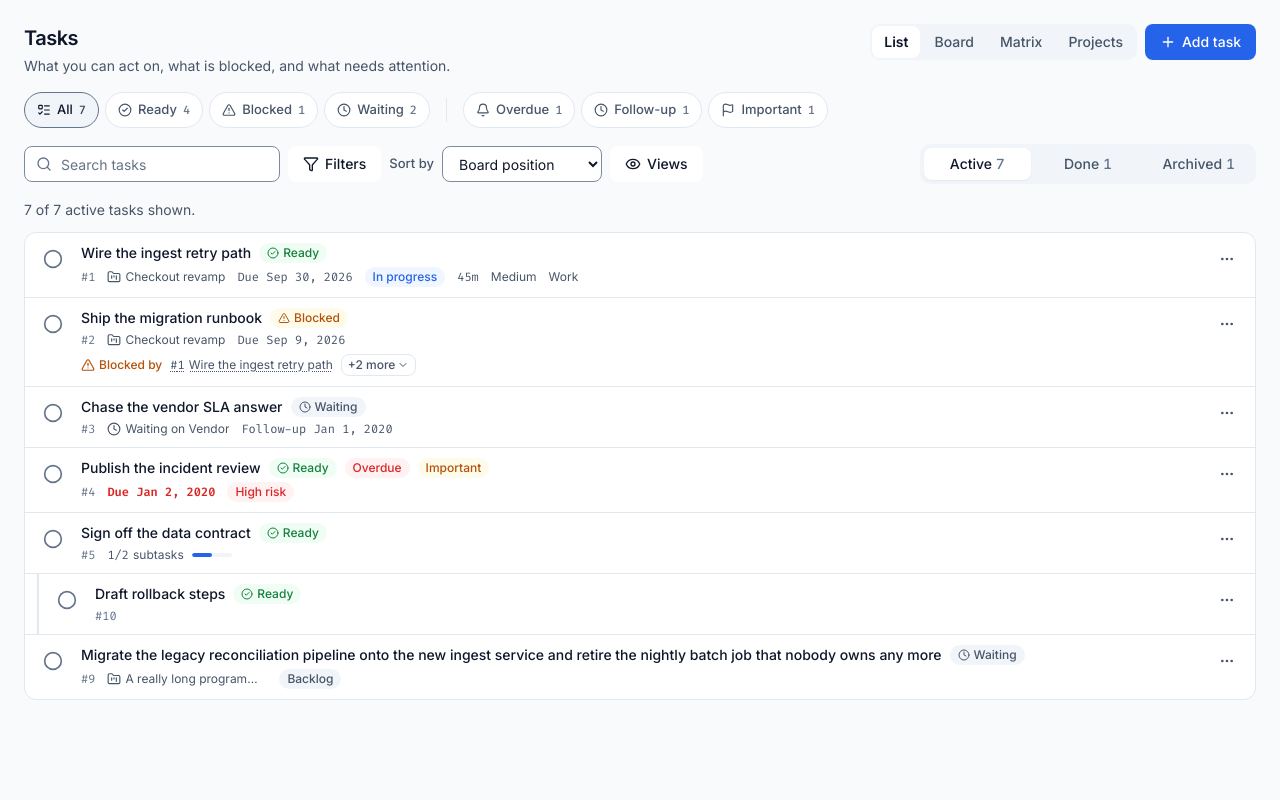
Test: TasksPage - signals, search, filters and saved views › toggles the overdue signal, keeps it in the URL contract and shows a removable chip
Click the button with aria-label "Overdue, 1 active task" at {"x": 519, "y": 110}, box [463,92,575,128]
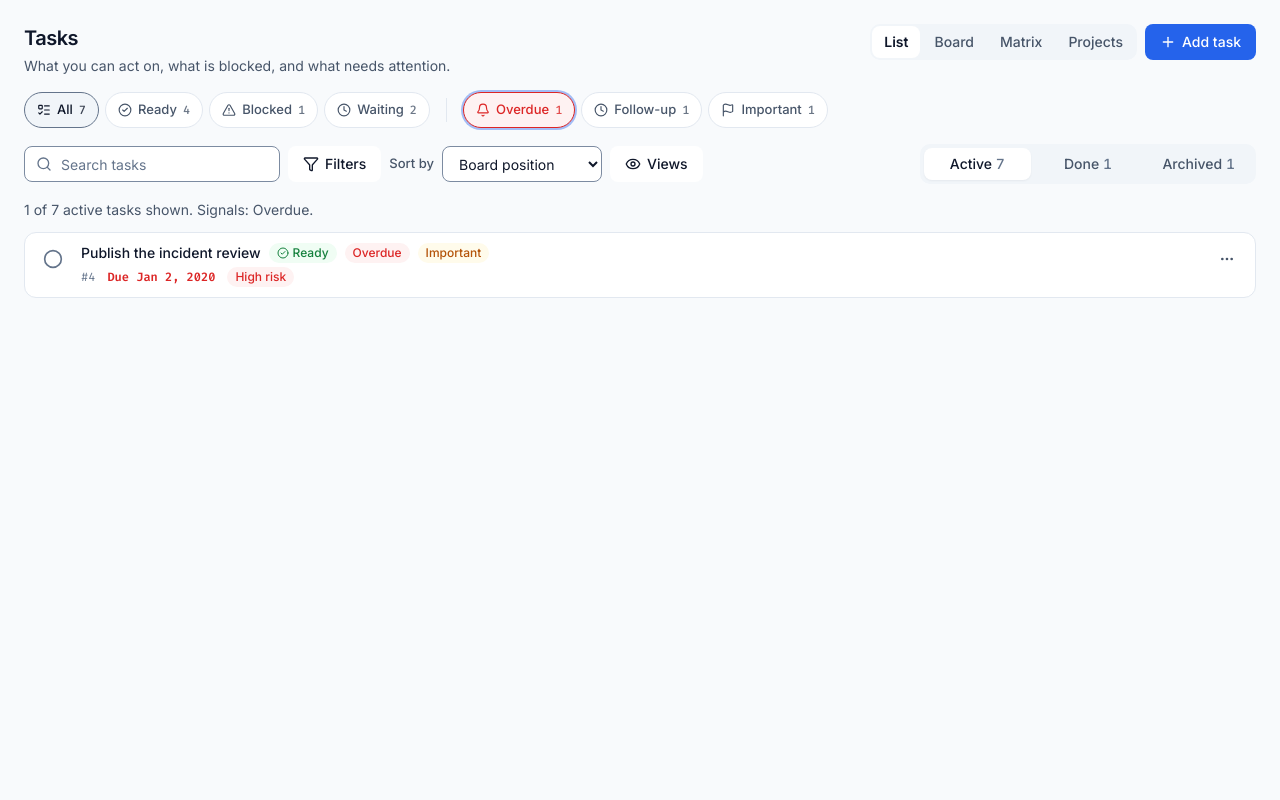
Check: the link "Publish the incident review" is shown, box [81,243,261,263]
Check: the link "Wire the ingest retry path" is gone
Click the button with aria-label "Overdue, 1 active task" at {"x": 519, "y": 110}, box [463,92,575,128]
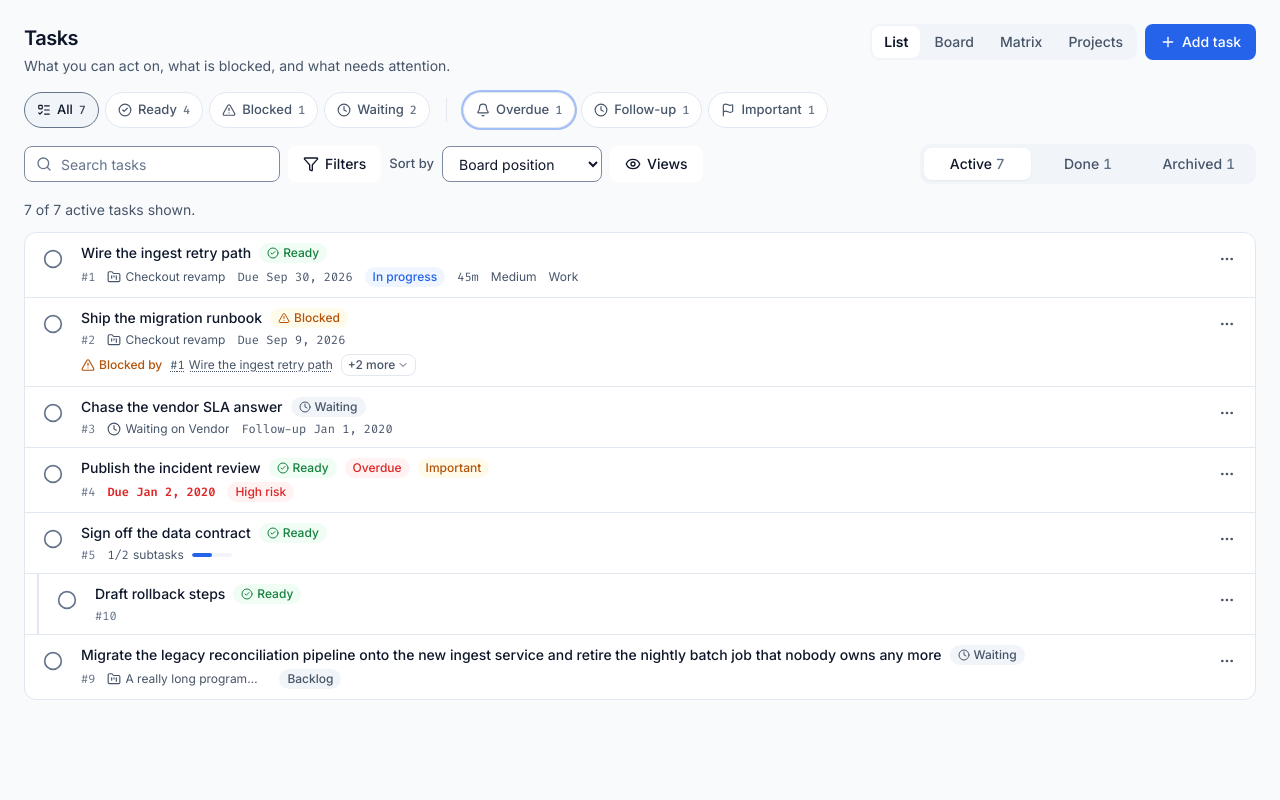
Check: the link "Wire the ingest retry path" is shown, box [81,243,251,263]
